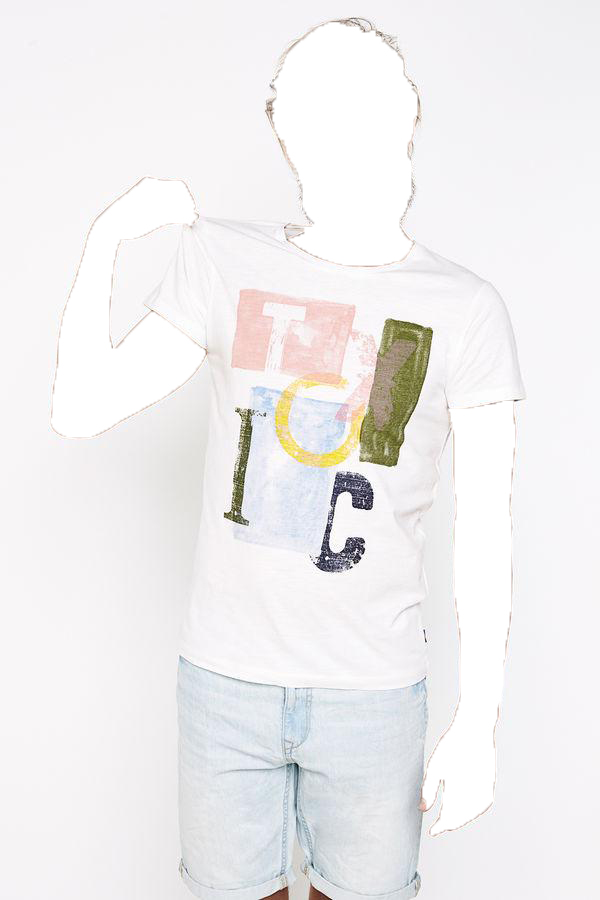teeshirt: (151, 210, 523, 692)
